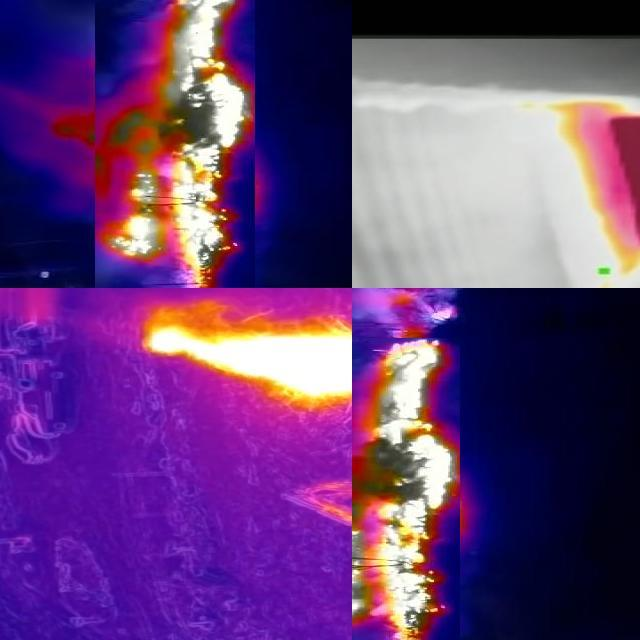fire: (96, 1, 256, 289), (353, 338, 461, 640), (133, 313, 353, 401), (570, 110, 640, 254), (353, 289, 463, 329)
